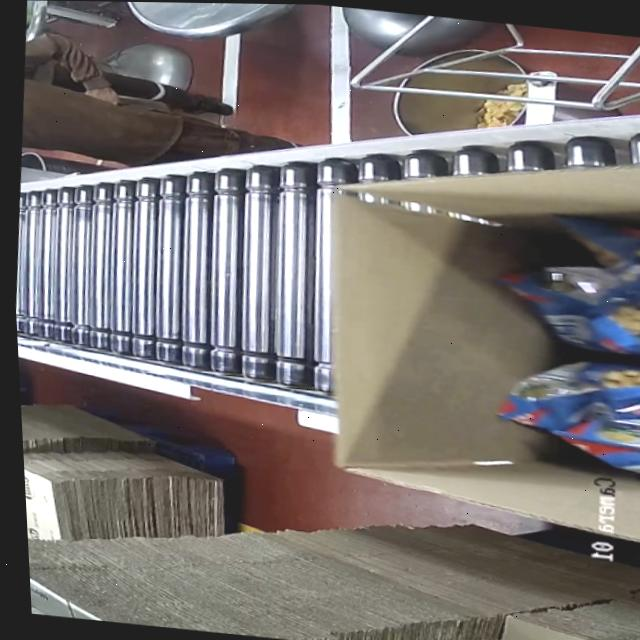PAPRIKA: (478, 208, 640, 473)
